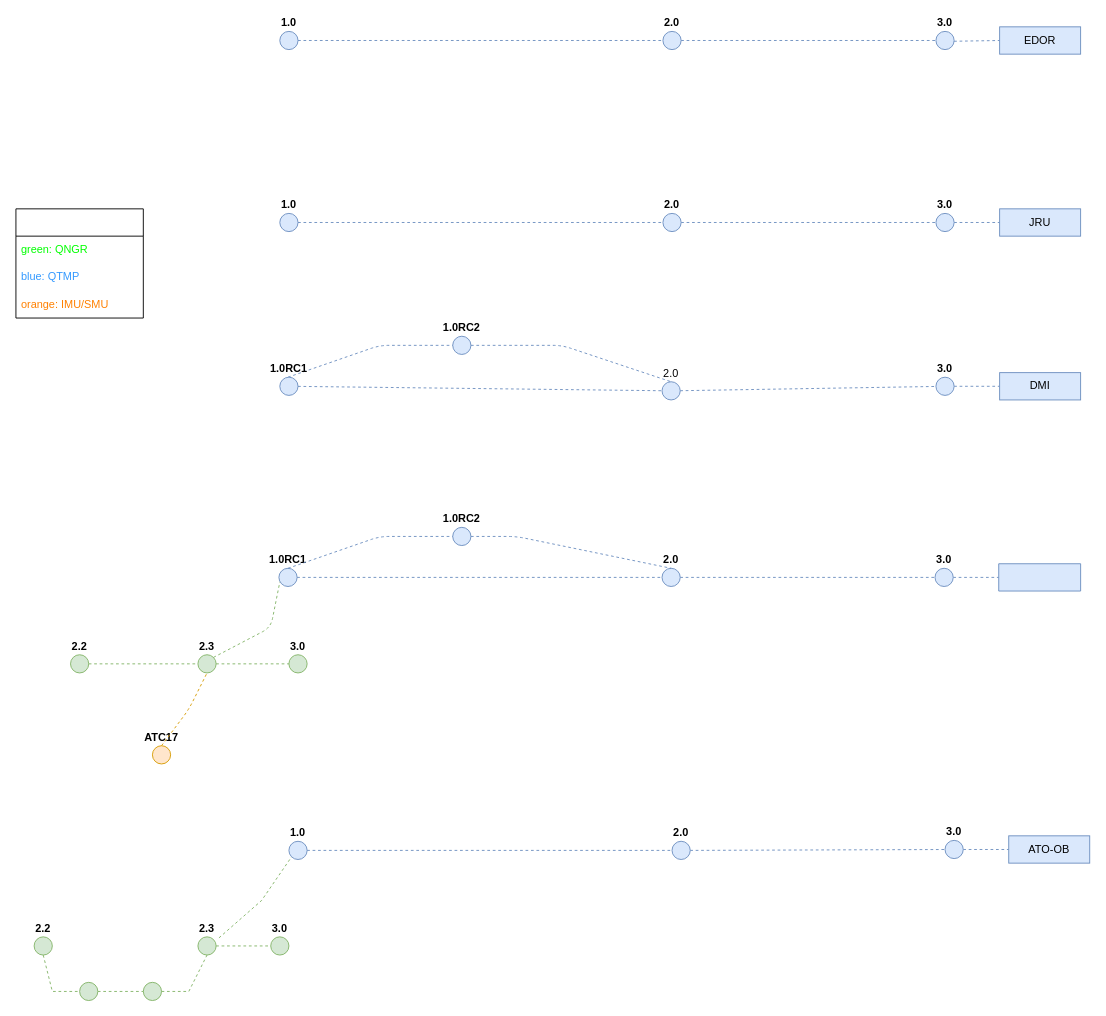
Image size: 1106x1016. Some labels were removed from this diagram. The shapes that lost their labels are listed below. From the top down, each one's box as (x1, y1, x2, y2) in pixels, then its label:
(15, 208, 143, 318): Fleet:
(998, 563, 1081, 591): ETCS-OB
(79, 981, 98, 1001): 2.2RC7
(142, 981, 162, 1001): 2.2RC8
